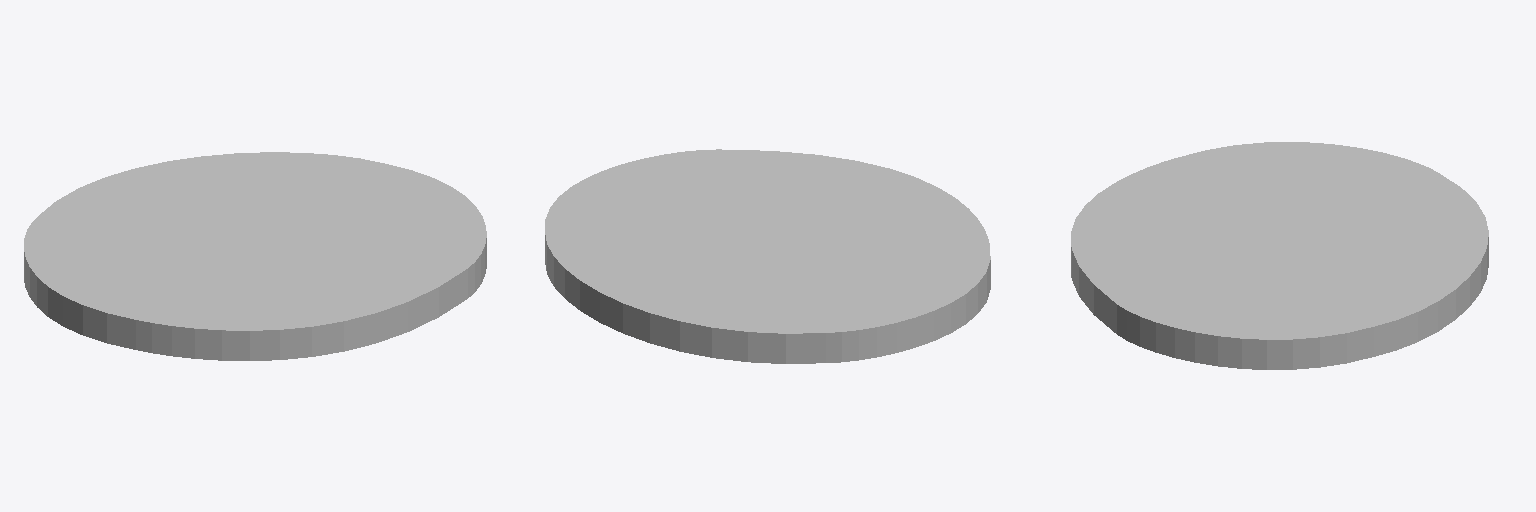
File: 2circ.obj
3 renders of one model, left to right at view 1: azimuth 30°, elevation 25°; view 2: azimuth 150°, elevation 25°; view 3: azimuth 270°, elevation 25°, orthographic.
Visible parts, largest first — view 1: path1092; view 2: path1092; view 3: path1092.
Boxes of the visible parts, box(x1,y1,x2,y2) form: path1092: box(24, 152, 486, 360); path1092: box(545, 149, 990, 363); path1092: box(1071, 142, 1488, 369).
Size of the model in its own units: 14.01 by 1 by 12.5.